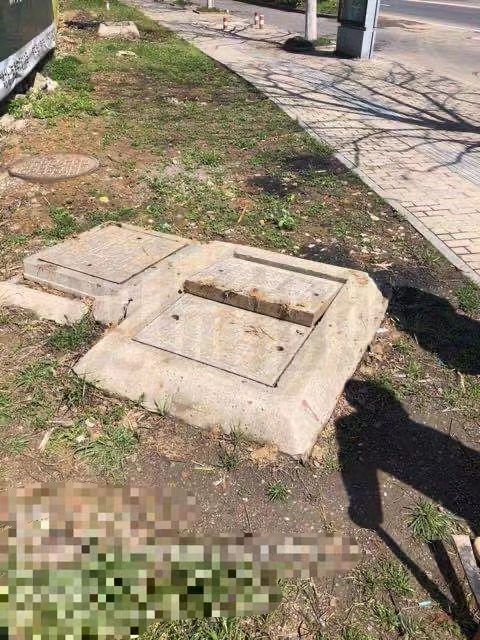well: (116, 247, 354, 392), (22, 221, 196, 291), (4, 152, 98, 178)
